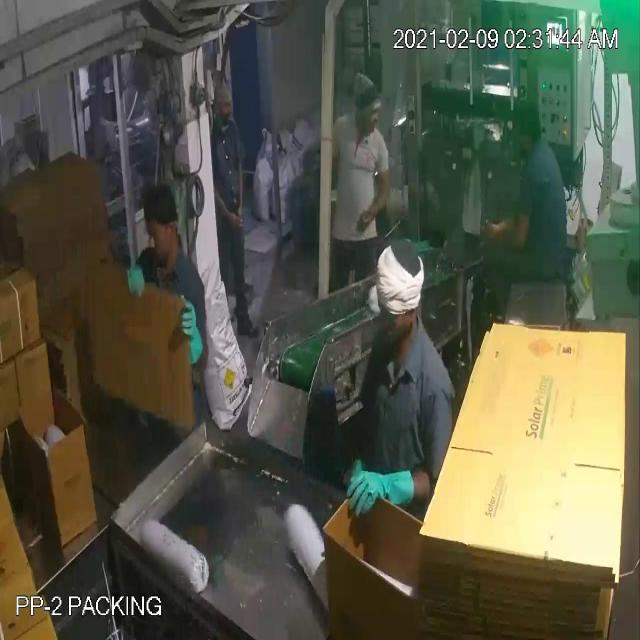gloves: (332, 438, 432, 540), (168, 285, 215, 371), (115, 242, 155, 316)
no-gloves: (480, 194, 542, 266), (354, 154, 398, 235), (220, 150, 256, 222), (203, 164, 239, 231)
